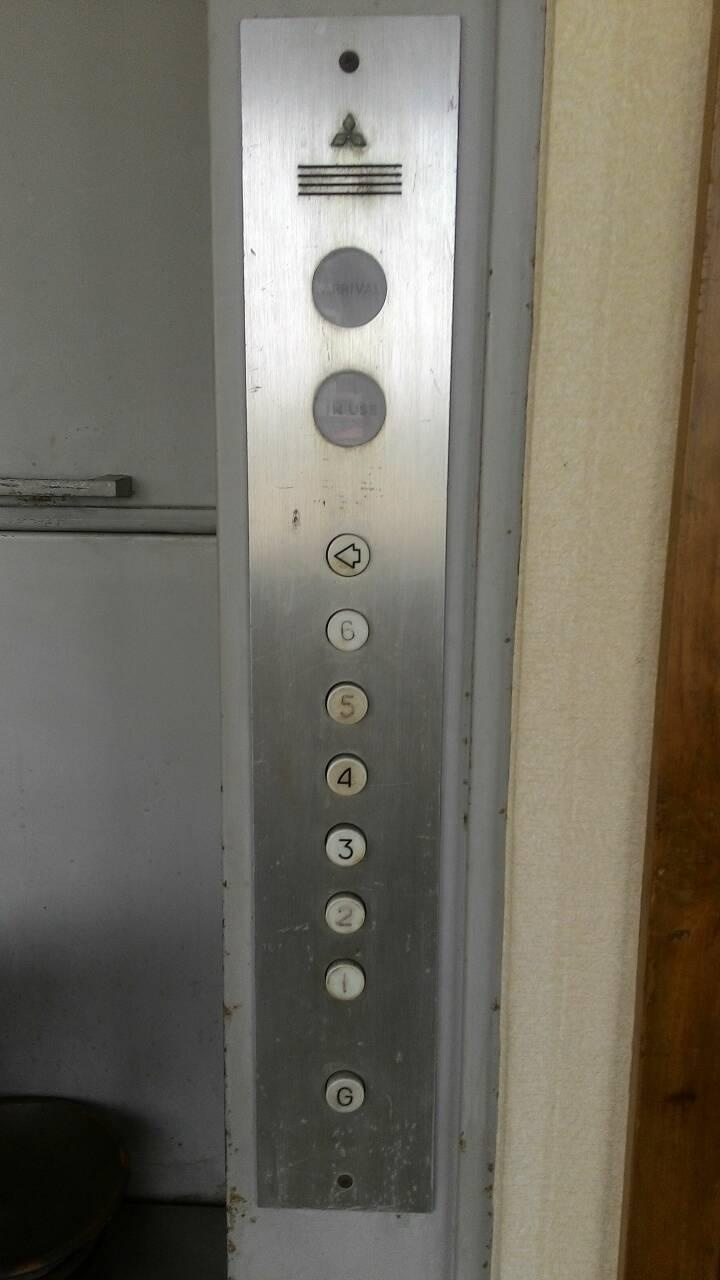1: (322, 956, 366, 1001)
2: (323, 889, 366, 935)
3: (323, 821, 367, 866)
4: (323, 751, 369, 796)
5: (322, 679, 369, 725)
6: (323, 607, 370, 651)
G: (323, 1068, 365, 1112)
text_blur: (310, 245, 388, 329), (309, 367, 387, 448)
unknown: (324, 532, 371, 577)
